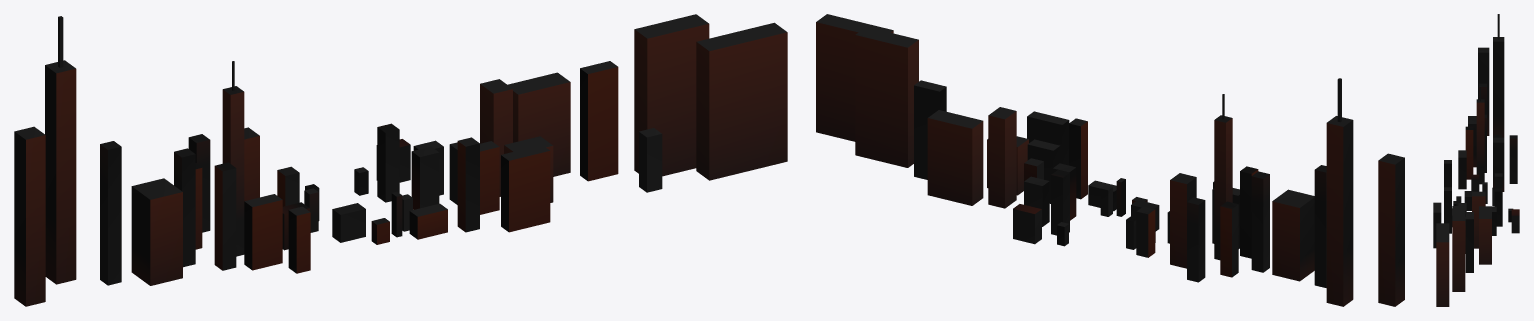
Rendered from Background1.fbx.
The picture shows the model from 3 angles, left to right: view 1: azimuth 30°, elevation 25°; view 2: azimuth 150°, elevation 25°; view 3: azimuth 270°, elevation 25°; orthographic projection. The views are drawn at different scales.
Visible parts, largest first — view 1: Background1; view 2: Background1; view 3: Background1.
Boxes of the visible parts, box(x1,y1,x2,y2) form: Background1: box(14, 14, 787, 306); Background1: box(816, 14, 1404, 306); Background1: box(1433, 14, 1519, 306).
Bounding box in the file's own units: 652 × 226 × 135.
